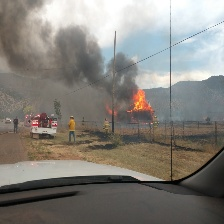fire: (129, 86, 151, 112)
smoke: (1, 1, 135, 113)
